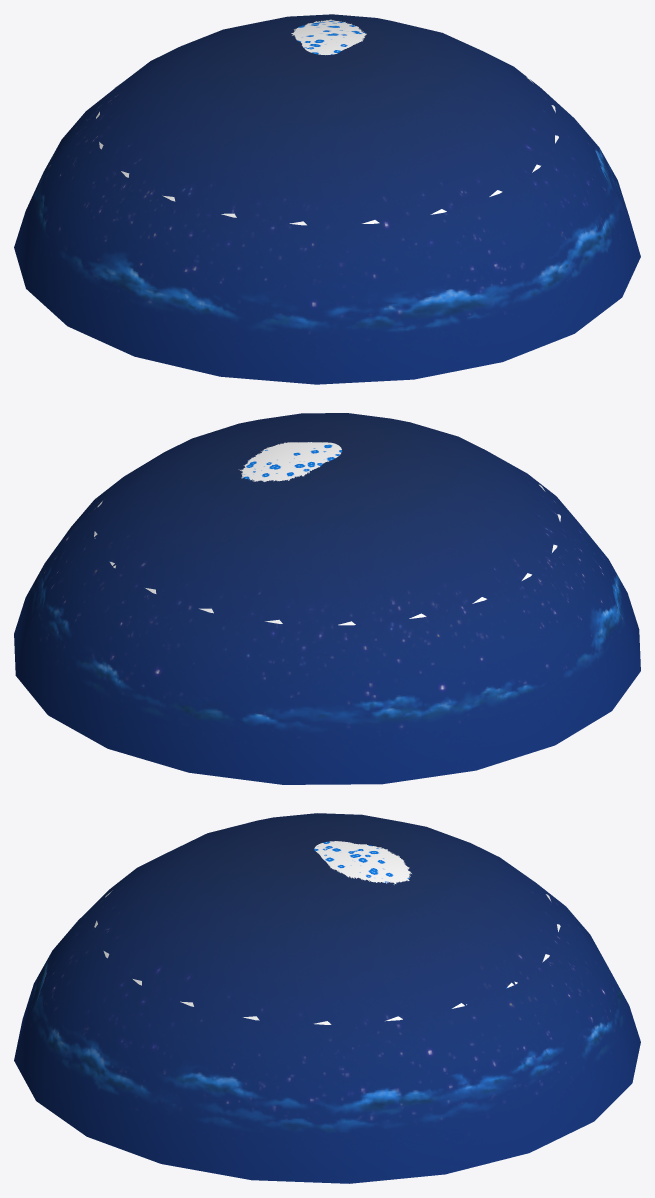
The model's file is sb_obj_sky_FullMoon.fbx.
The picture shows the model from 3 angles, top to bottom: view 1: azimuth 30°, elevation 25°; view 2: azimuth 150°, elevation 25°; view 3: azimuth 270°, elevation 25°; orthographic projection.
Parts seen in each view (by area): view 1: sky, sky.001; view 2: sky, sky.001; view 3: sky, sky.001.
Boxes of the visible parts, x1=… form: sky: x1=14, y1=14, x2=640, y2=384; sky.001: x1=96, y1=19, x2=558, y2=225; sky: x1=14, y1=413, x2=640, y2=784; sky.001: x1=94, y1=442, x2=560, y2=625; sky: x1=14, y1=813, x2=640, y2=1183; sky.001: x1=94, y1=841, x2=560, y2=1024.
Bounding box in the file's own units: 985 × 356 × 985.
